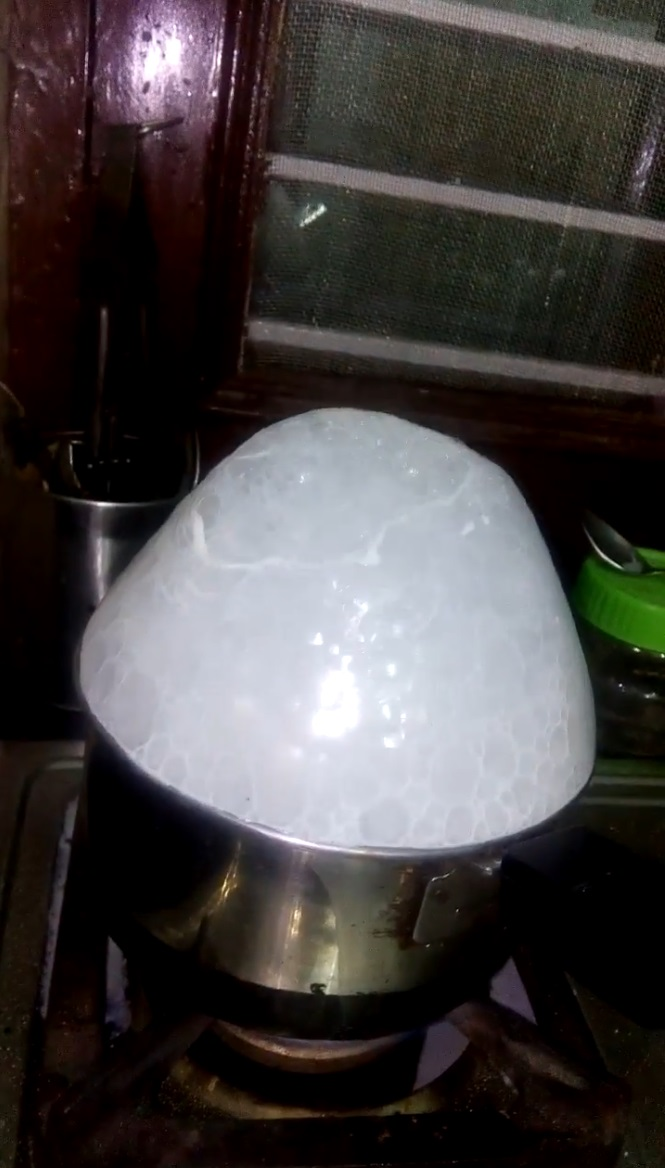Boiled: (72, 403, 615, 1024)
